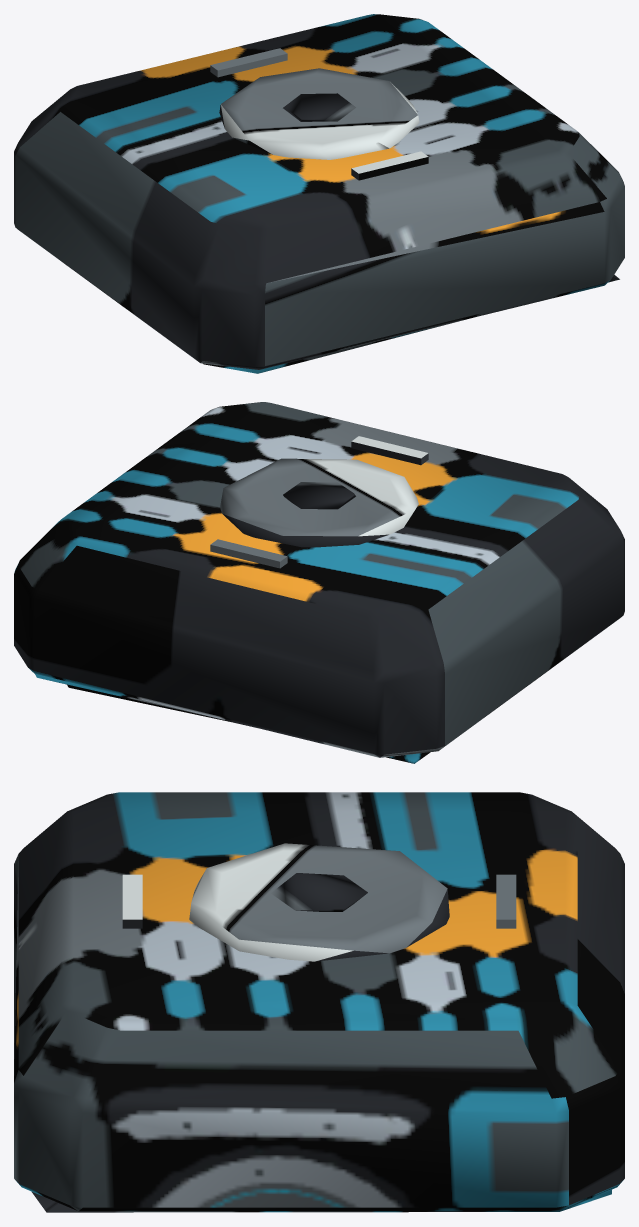
File: S07_Lid_LOD2.obj
3 renders of one model, top to bottom at view 1: azimuth 30°, elevation 25°; view 2: azimuth 150°, elevation 25°; view 3: azimuth 270°, elevation 25°, orthographic. The views are drawn at different scales.
Parts seen in each view (by area): view 1: S07_Lid_LOD2.001; view 2: S07_Lid_LOD2.001; view 3: S07_Lid_LOD2.001.
Boxes of the visible parts, x1,y1,x2,y2 form: S07_Lid_LOD2.001: [14, 14, 624, 373]; S07_Lid_LOD2.001: [14, 402, 624, 763]; S07_Lid_LOD2.001: [14, 792, 624, 1212].
Size of the model in its own units: 1.13 by 0.4025 by 1.05.
